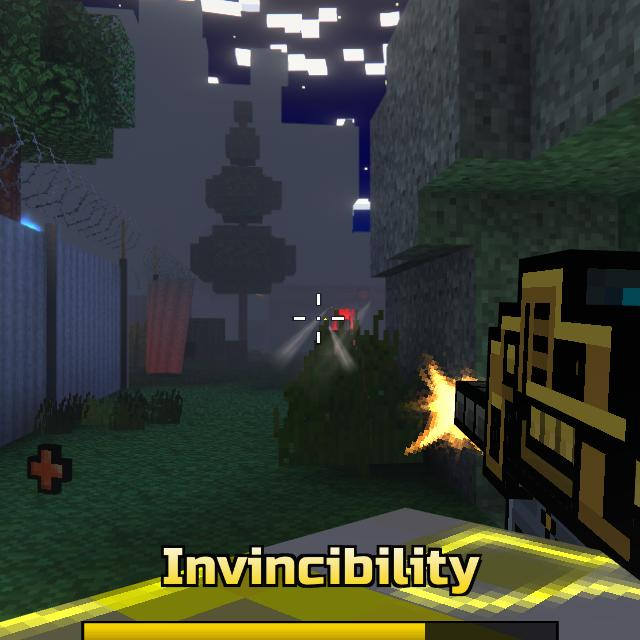Enemy: (334, 318, 353, 331)
